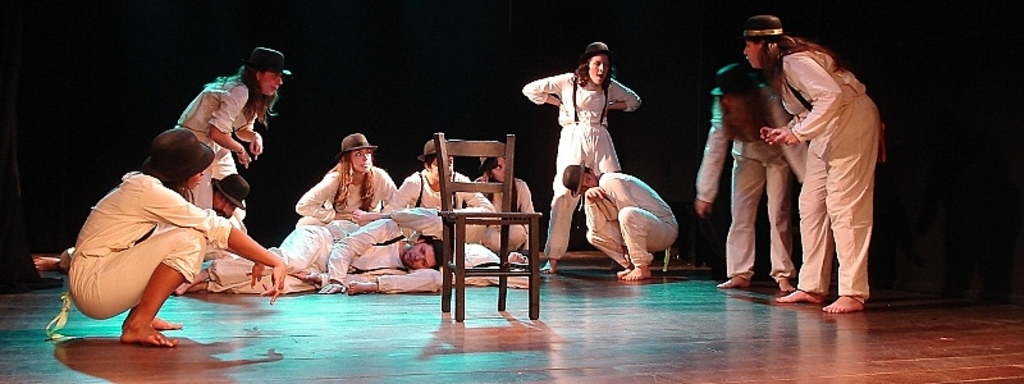Human_hand: (260, 264, 285, 305), (769, 129, 801, 148), (584, 187, 607, 206), (317, 282, 348, 296), (696, 200, 714, 221), (250, 137, 266, 160), (251, 265, 266, 289), (291, 271, 321, 282), (758, 129, 777, 145), (237, 150, 252, 170), (351, 209, 370, 221), (558, 108, 568, 123), (600, 105, 609, 118)
